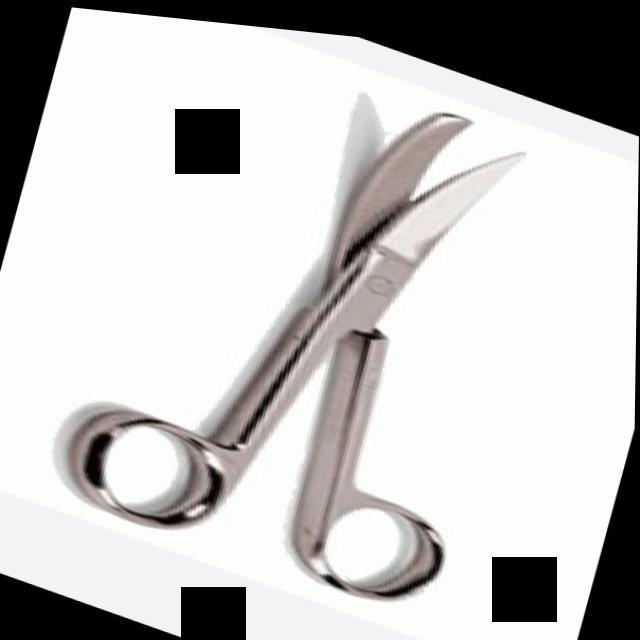Curved Mayo: (50, 5, 573, 632)
